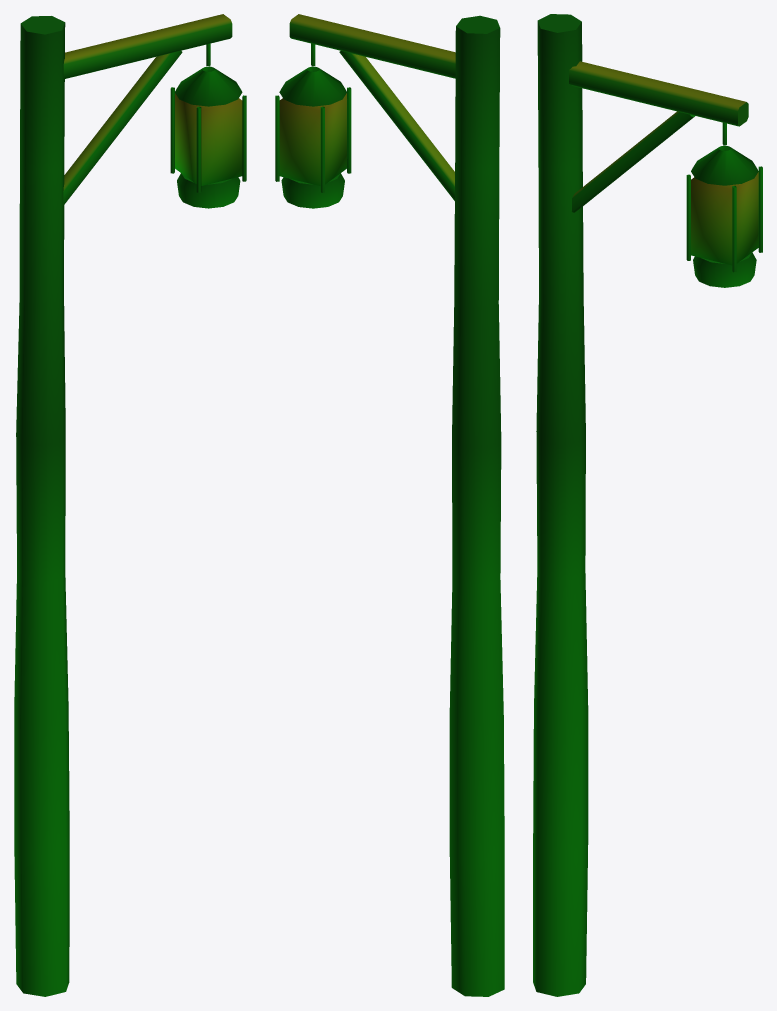
File: oil_lamp_post.glb
3 renders of one model, left to right at view 1: azimuth 30°, elevation 25°; view 2: azimuth 150°, elevation 25°; view 3: azimuth 330°, elevation 25°, orthographic.
Visible parts, largest first — view 1: oil_lamp_post; view 2: oil_lamp_post; view 3: oil_lamp_post.
Part boxes in pixels (left/top/right/bottom): oil_lamp_post: left=14, top=14, right=246, bottom=996; oil_lamp_post: left=275, top=14, right=504, bottom=996; oil_lamp_post: left=533, top=14, right=762, bottom=996.
Size of what is drawn, in the model's own units: 0.5948 by 2.5 by 0.16.
